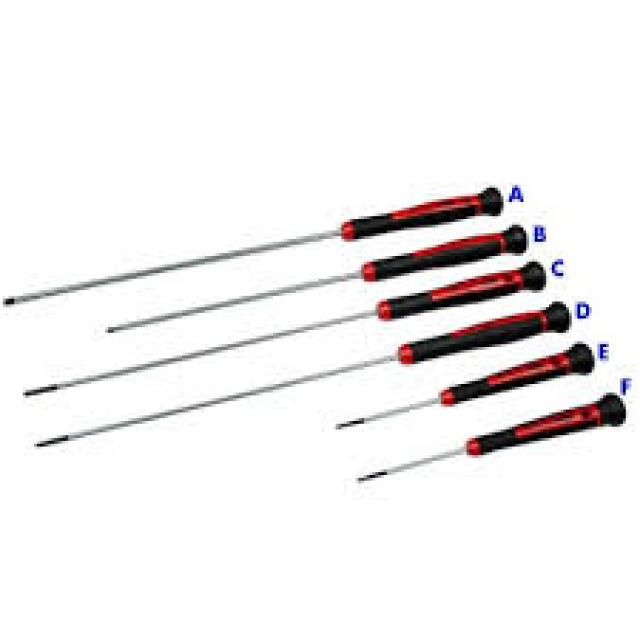screw driver: (335, 398, 640, 498)
